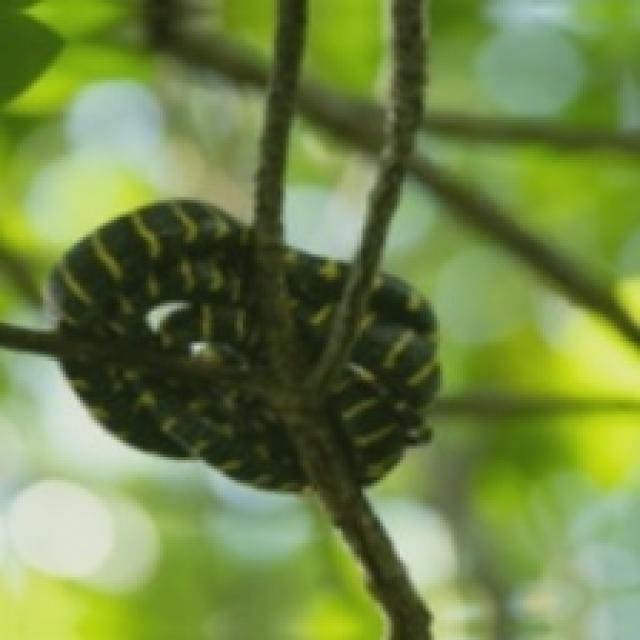mangrove cat snake: (40, 200, 308, 489), (49, 200, 303, 489), (331, 274, 437, 483), (335, 274, 439, 484), (287, 246, 349, 364)
